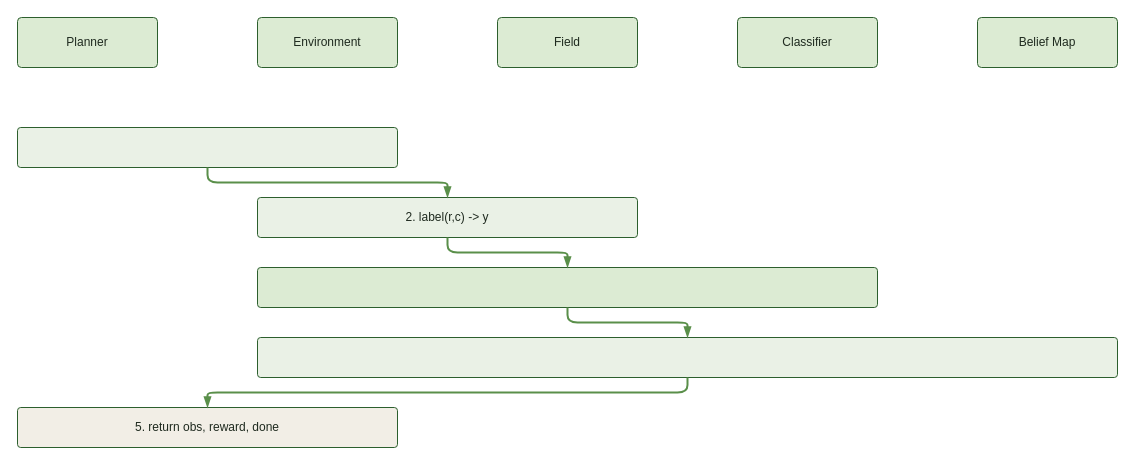
The diagram is 1135 pixels wide and 465 high, and some of its shapes have lost their labels. Each missing label, with the centre of its shape:
"1. step(a)" goes at (207,147).
"3. observe(y) -> p = sigma(2*mu*z / T)" goes at (567,287).
"4. bayes_update(r,c,p) -> b, H(b)" goes at (687,357).
